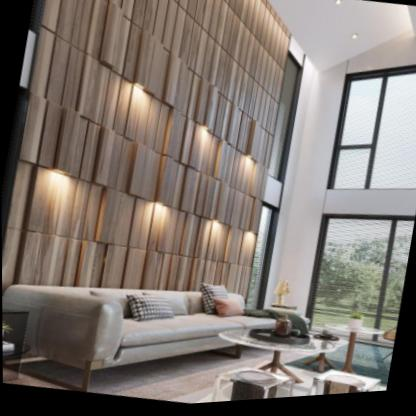Wall Panel: (0, 0, 292, 322)
Window: (305, 218, 414, 345), (329, 72, 416, 195)
Wooden floor: (85, 352, 297, 406)
